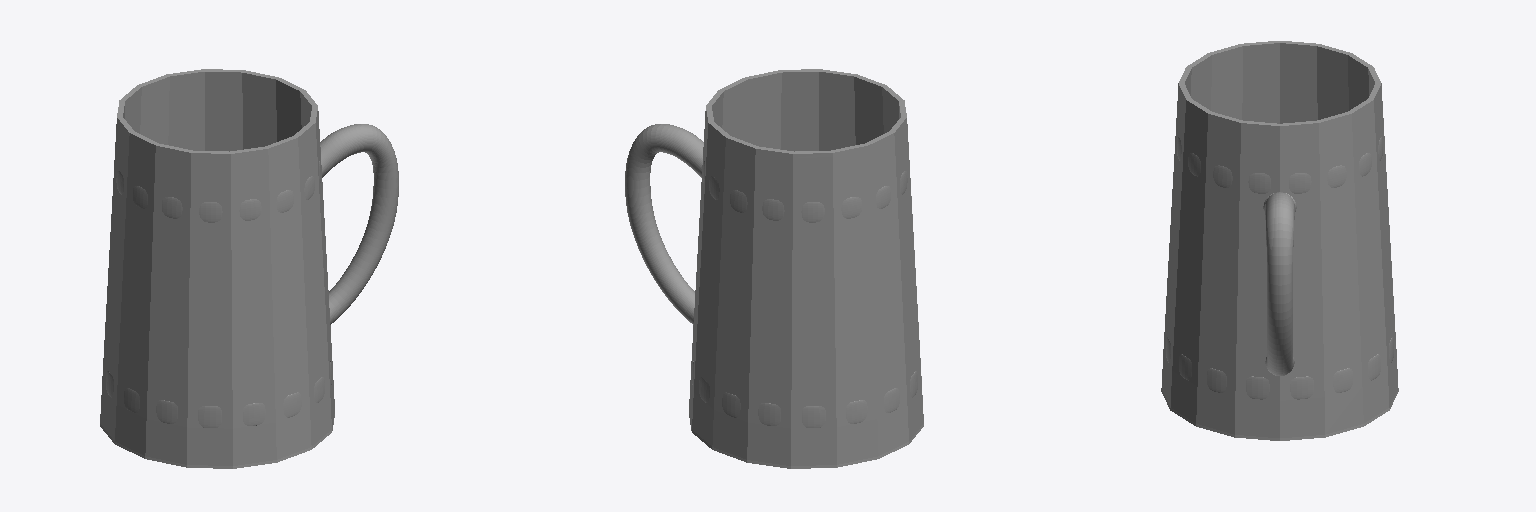
The model's file is mug.obj.
3 views of the same model, side by side, from view 1: azimuth 30°, elevation 25°; view 2: azimuth 150°, elevation 25°; view 3: azimuth 270°, elevation 25° (orthographic).
Parts seen in each view (by area): view 1: Bierkrug, Griff_Griff.001, Ring_unten, Ring_oben; view 2: Bierkrug, Griff_Griff.001, Ring_unten, Ring_oben; view 3: Bierkrug, Griff_Griff.001, Ring_unten, Ring_oben.
Boxes of the visible parts, x1,y1,x2,y2 form: Bierkrug: [100, 69, 334, 468]; Griff_Griff.001: [320, 124, 398, 324]; Ring_unten: [106, 361, 331, 427]; Ring_oben: [116, 161, 320, 222]; Bierkrug: [689, 69, 923, 468]; Griff_Griff.001: [625, 124, 703, 324]; Ring_unten: [692, 361, 917, 427]; Ring_oben: [703, 161, 907, 222]; Bierkrug: [1161, 41, 1398, 440]; Griff_Griff.001: [1263, 192, 1296, 375]; Ring_unten: [1166, 337, 1393, 399]; Ring_oben: [1177, 137, 1382, 193].
Size of the model in its own units: 0.1923 by 0.2 by 0.14.